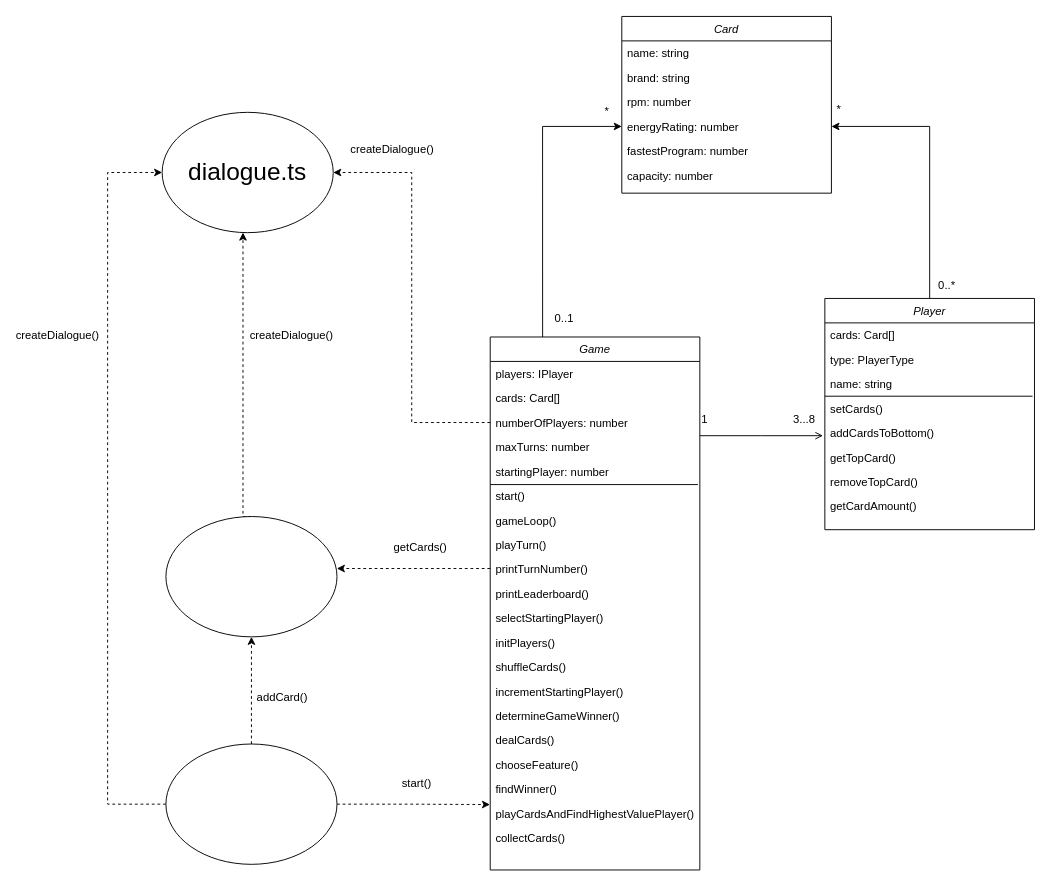
Some shapes in this 1051 by 886 pixel diagram are drawn without their labels. The centre of each missing label's shape, as x and y in pixels:
"cards.ts" belongs at [251,576].
"index.ts" belongs at [251,803].
